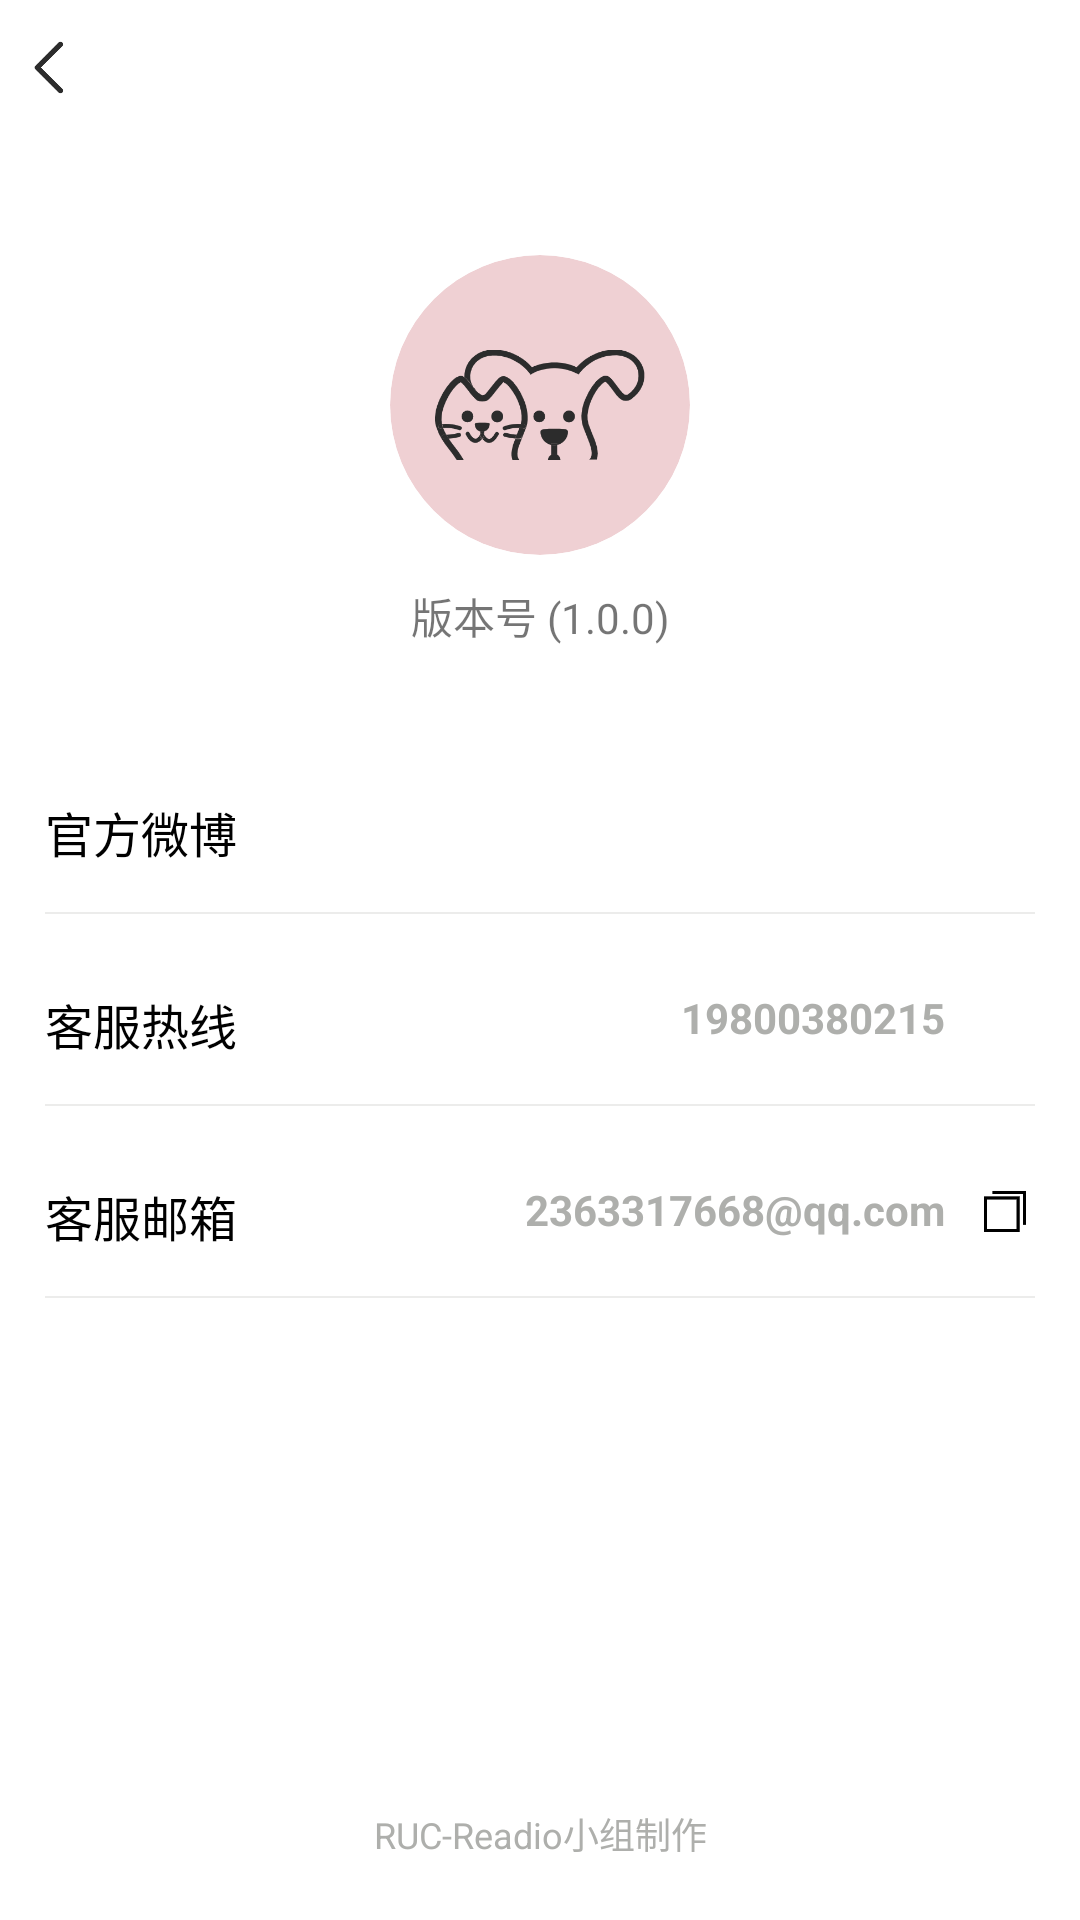

Icons on this 1080w x 1920h Android screen, each with the point to tap as (x,y):
best back: (48,67)
catdog: (540,405)
